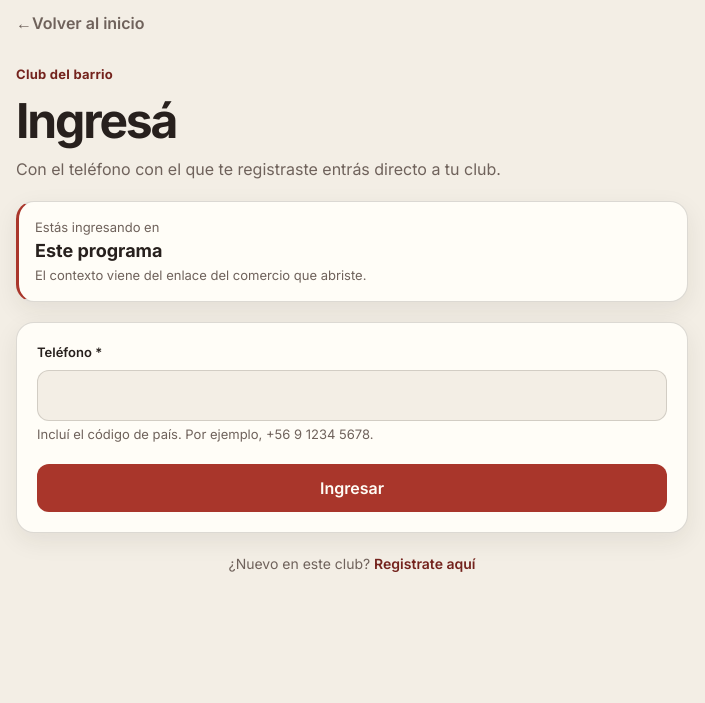
it: login page behavior › treats an unclassified failure as a neutral, retryable error
Type "+56912345678" into the field labelled "Teléfono *" at coordinates (352, 396), box x1=37 y1=370 x2=667 y2=421
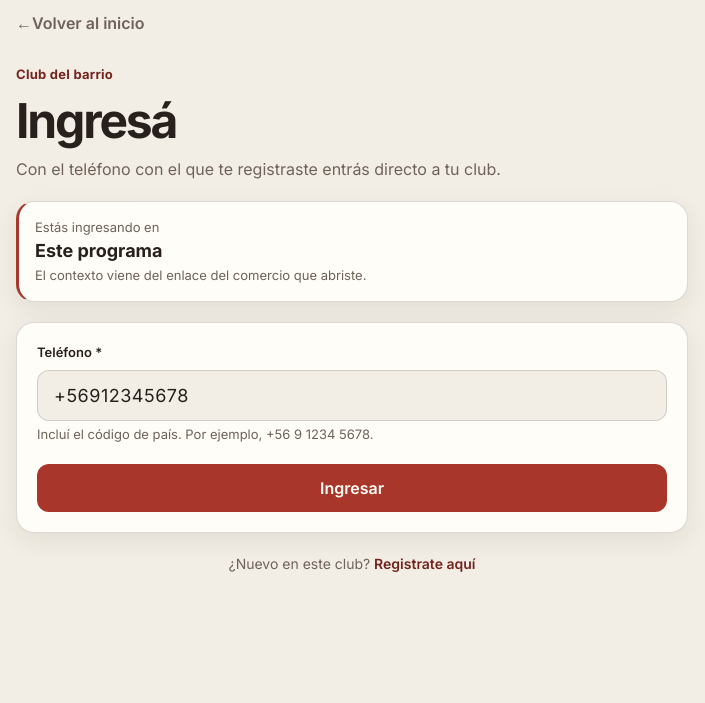
Click the button "Ingresar" at coordinates (352, 488), box x1=37 y1=464 x2=667 y2=512
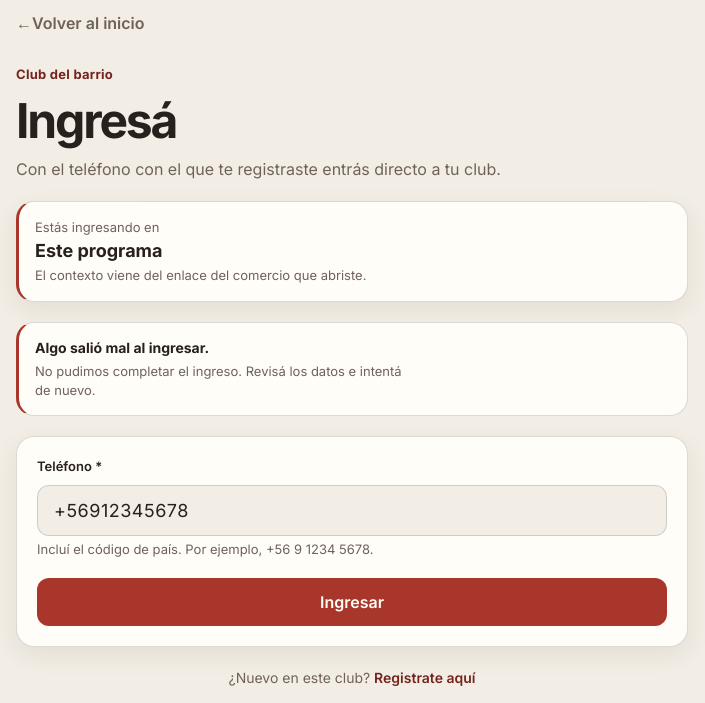
Result: the text "No pudimos completar el ingreso. Revisá los datos" is shown at x1=35 y1=363 x2=402 y2=398
Result: the text "Algo salió mal al ingresar." is shown at x1=35 y1=339 x2=209 y2=356
